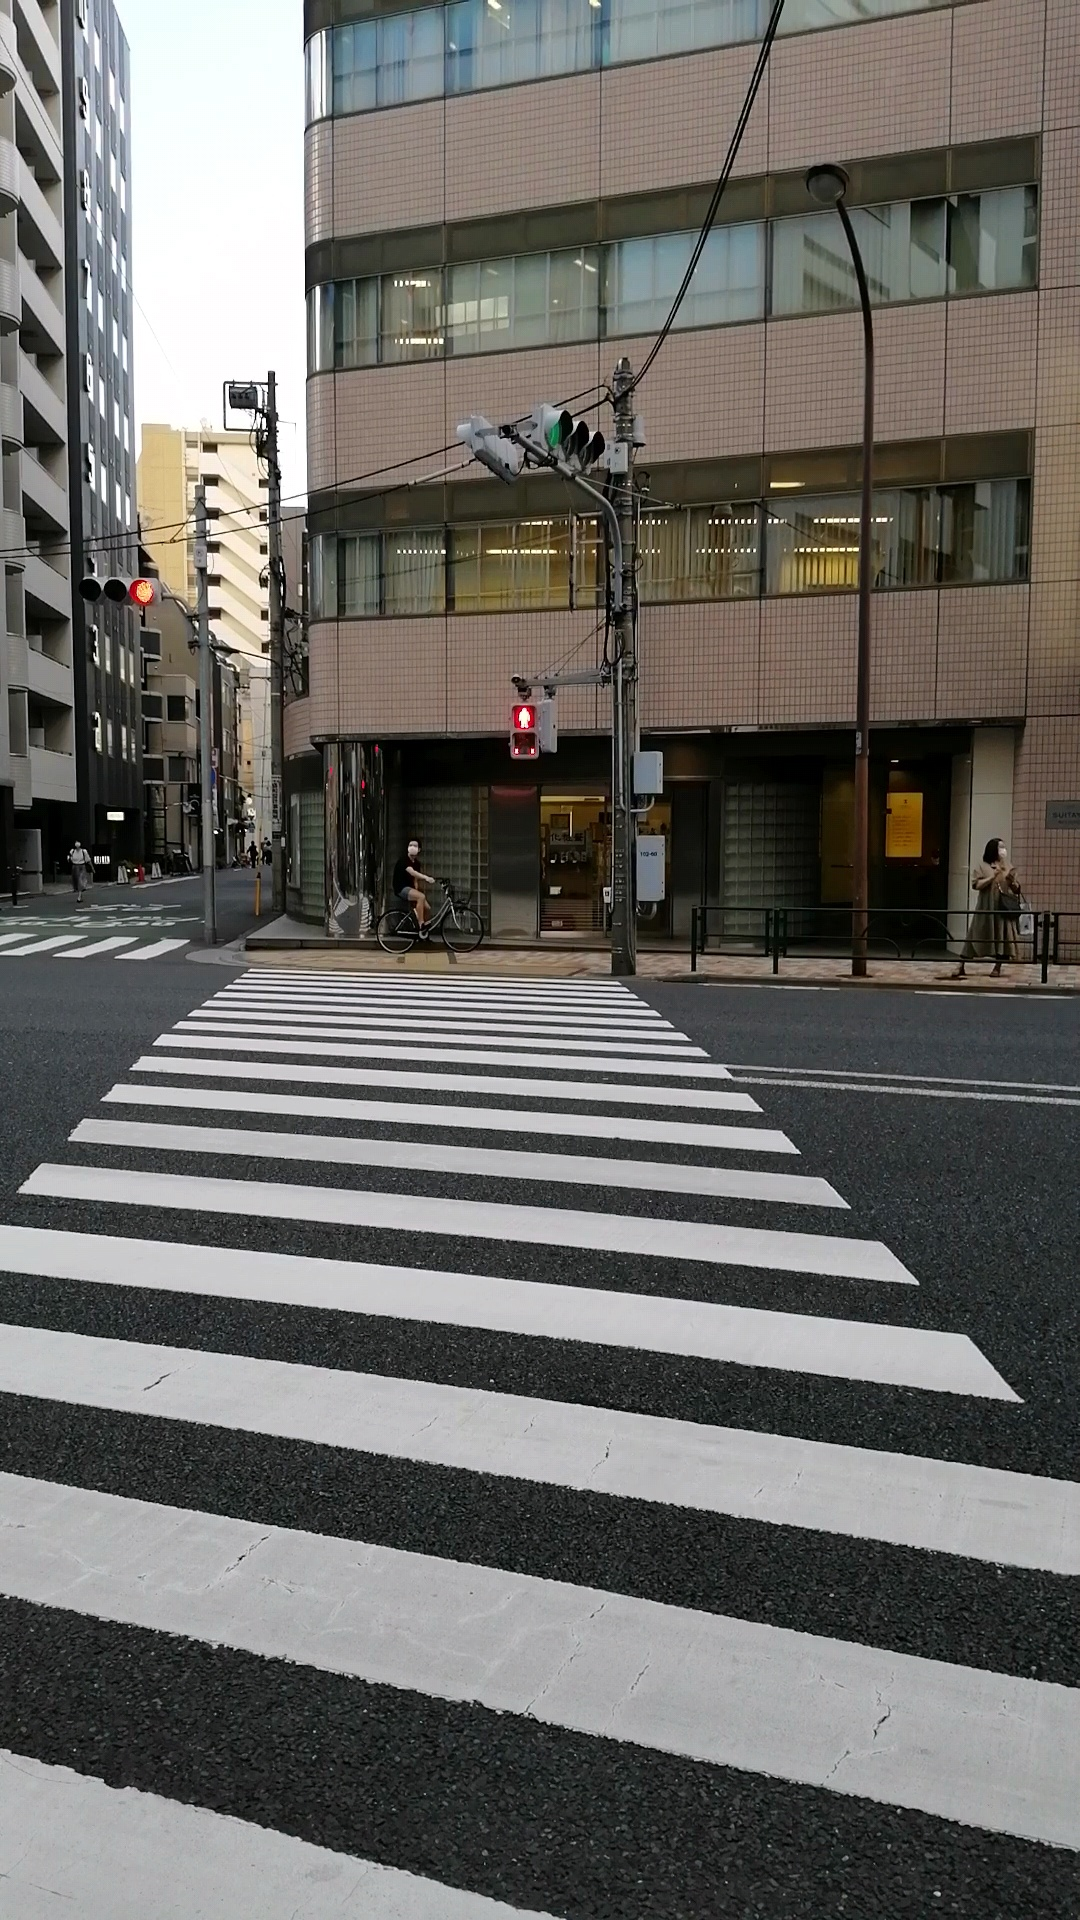red: (509, 702, 541, 760)
